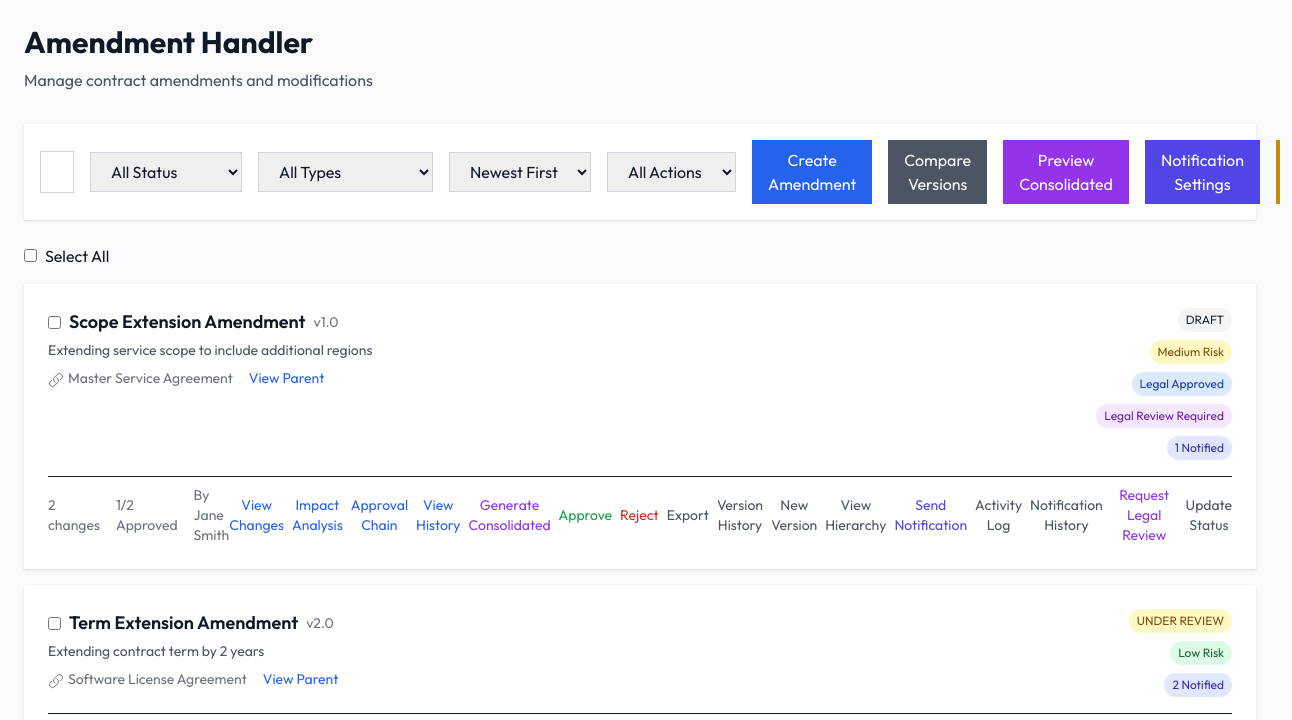
Test: AmendmentHandler › Change Impact Analysis › should display change details
Expected: the text "2 changes" is shown, [48,495,100,535]
Step 1. Click the button "View Changes" → {"x": 257, "y": 515}, box [229,485,284,545]
(page scrolled)
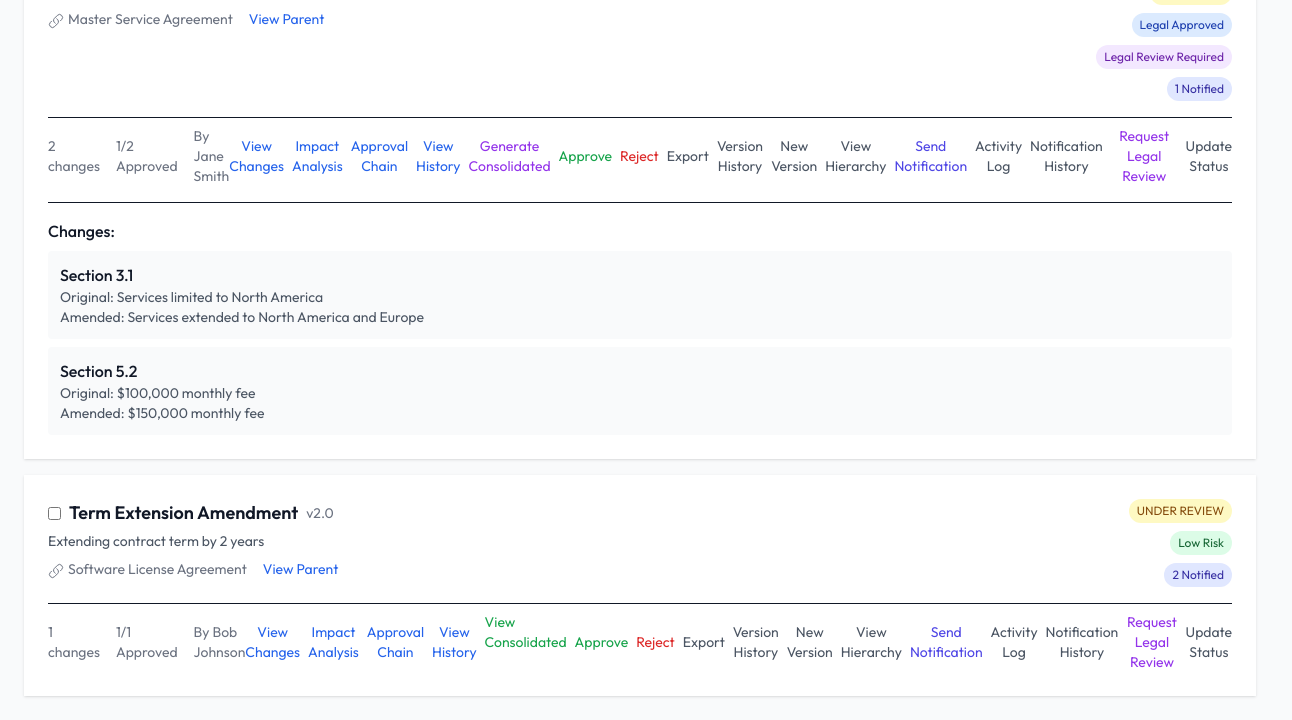
Expected: the element with test id "change-details" is shown, [48,202,1232,435]
Expected: the text "Section 3.1" is shown, [60,265,133,285]
Expected: the text "Section 5.2" is shown, [60,361,137,381]
